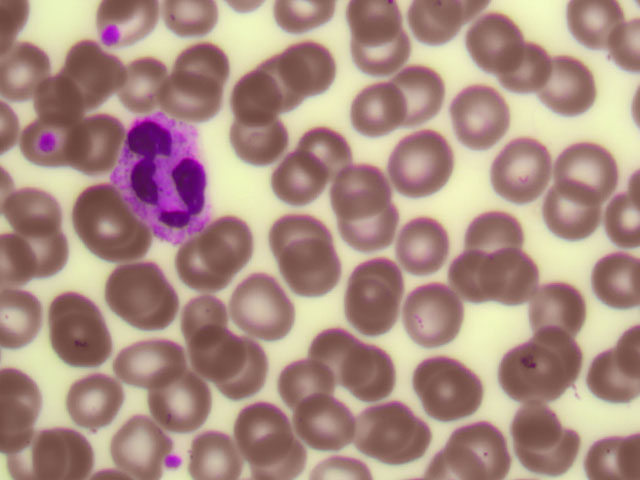Platelets: (94, 22, 123, 49), (163, 454, 184, 474)
RBC: (444, 418, 504, 480), (491, 140, 551, 201), (553, 132, 613, 193), (547, 174, 607, 235), (465, 203, 525, 264), (435, 243, 495, 304), (473, 247, 533, 308), (524, 286, 584, 347), (536, 337, 596, 398), (503, 345, 563, 406), (505, 387, 565, 448), (594, 250, 640, 308), (188, 432, 238, 480), (253, 432, 303, 480), (30, 74, 80, 121), (68, 54, 118, 101), (3, 42, 53, 89), (66, 117, 116, 164), (117, 59, 167, 106), (153, 76, 203, 123), (181, 37, 231, 84), (224, 70, 274, 117), (265, 57, 315, 104), (292, 39, 342, 86), (242, 120, 292, 167), (276, 161, 326, 208), (303, 123, 353, 170), (344, 163, 394, 210), (348, 212, 398, 259), (267, 206, 317, 253), (288, 248, 338, 295), (210, 223, 260, 270), (183, 236, 233, 283), (120, 262, 170, 309), (125, 286, 175, 333), (101, 216, 151, 263), (69, 179, 119, 226), (21, 187, 71, 234), (36, 221, 86, 268), (2, 294, 52, 341), (45, 288, 95, 335), (62, 328, 112, 375), (71, 376, 121, 423), (31, 431, 81, 478), (109, 425, 159, 472), (157, 382, 207, 429), (117, 339, 167, 386), (189, 330, 239, 377), (183, 292, 233, 339), (224, 276, 274, 323), (219, 340, 269, 387), (231, 404, 281, 451), (298, 396, 348, 443), (286, 357, 336, 404), (305, 324, 355, 371), (332, 347, 382, 394), (353, 401, 403, 448), (381, 418, 431, 465), (433, 369, 483, 416), (417, 351, 467, 398), (413, 288, 463, 335), (354, 290, 404, 337), (357, 259, 407, 306), (400, 214, 450, 261), (392, 131, 442, 178), (401, 65, 451, 112), (358, 82, 408, 129), (357, 25, 407, 72), (410, 3, 460, 50), (456, 14, 506, 61), (496, 36, 546, 83), (537, 47, 587, 94), (463, 91, 513, 138), (347, 1, 397, 47)
WBC: (115, 117, 210, 241)
